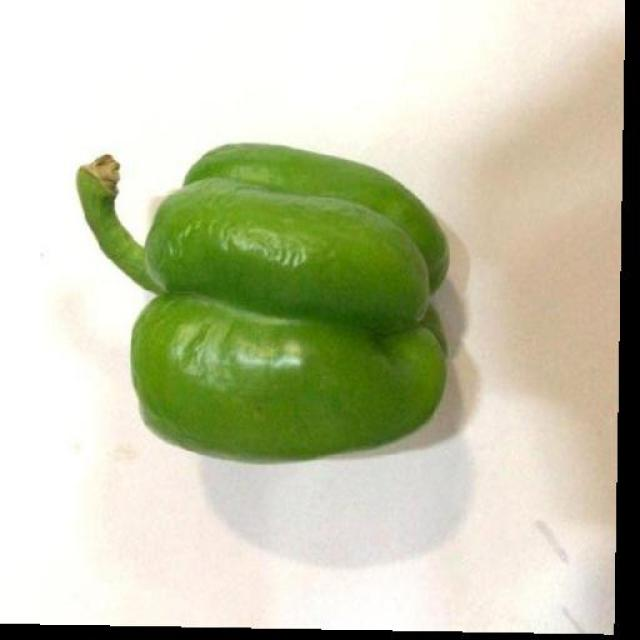Fresh_Capsicum: (71, 131, 457, 450)
